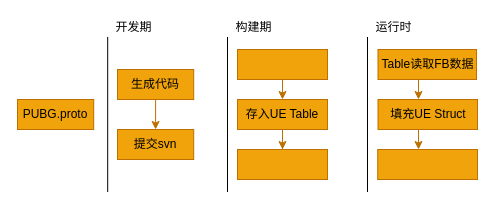
Some shapes in this 495 by 209 pixel diagram are drawn without their labels. The shapes that lost their labels are listed below. From the top down, each one's centre as x and y in pixels, then its label:
At [282,64]: "蓝图序列化为FB".
At [282,164]: "安装包".
At [427,164]: "客户端 / DS".
